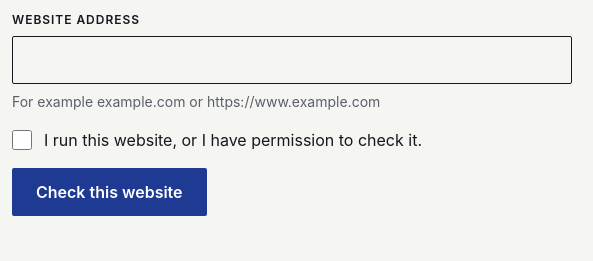
Test: ScanForm › refuses to scan without authorisation
Type "shop.example" into the field labelled "Website address" at point(292, 60), box [12,36,572,84]
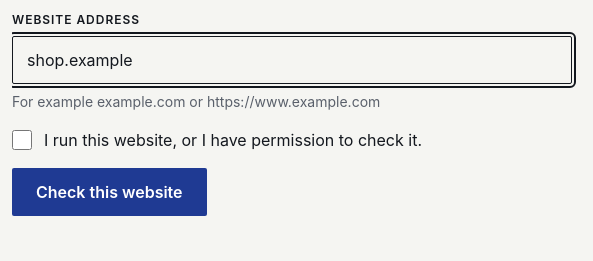
Click the button "Check this website" at point(109, 192), box [12,168,207,216]
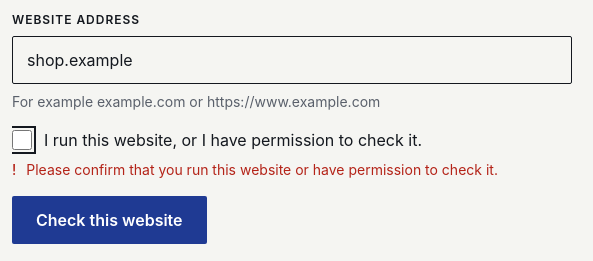
Result: the text "Please confirm that you run this website or have permission to check it." is shown at [26,160,498,180]
